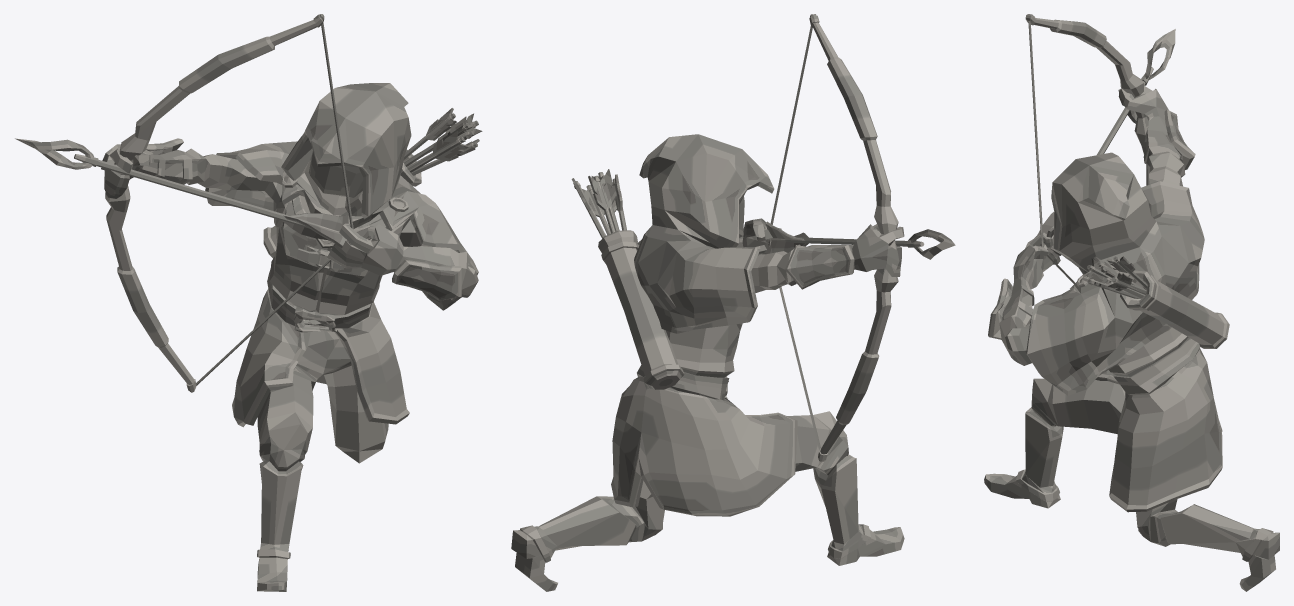
The model's file is el_bld_turret.gltf.
3 views of the same model, side by side, from view 1: azimuth 30°, elevation 25°; view 2: azimuth 150°, elevation 25°; view 3: azimuth 270°, elevation 25° (orthographic). The views are drawn at different scales.
Visible parts, largest first — view 1: el_bld_turret; view 2: el_bld_turret; view 3: el_bld_turret.
Boxes of the visible parts, left/top/right/bottom form: el_bld_turret: left=15, top=14, right=482, bottom=591; el_bld_turret: left=511, top=14, right=955, bottom=591; el_bld_turret: left=984, top=14, right=1279, bottom=591.
Bounding box in the file's own units: 1.55 × 1.9 × 1.01.
Materials: 1 (1 with a texture image).
